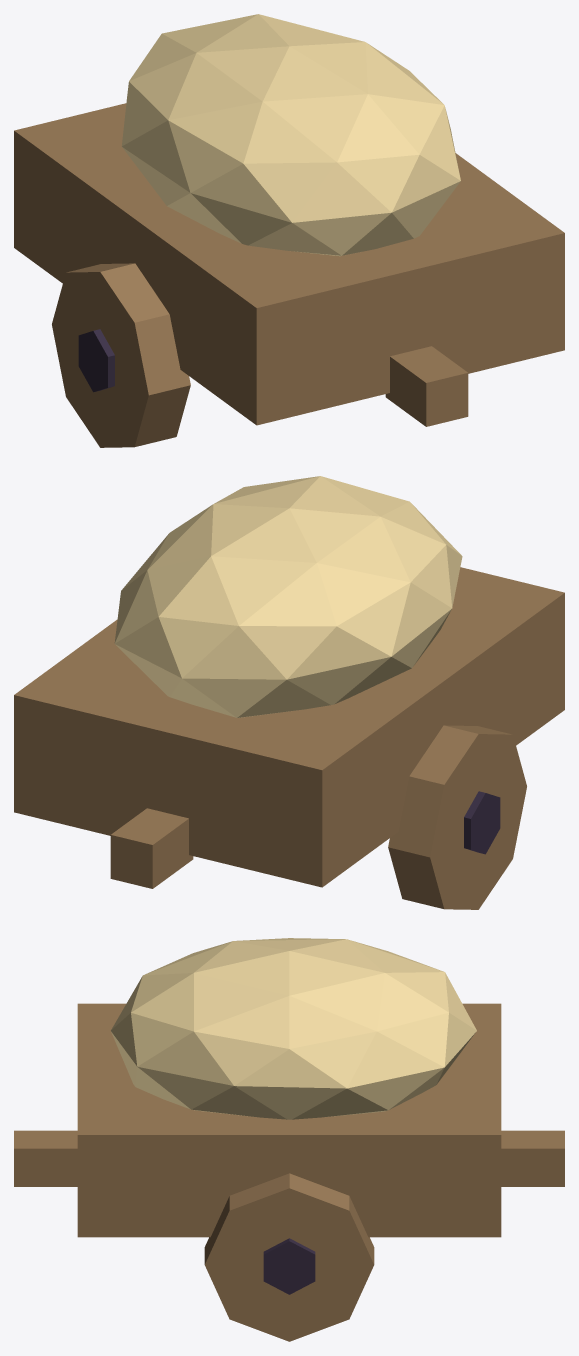
File: hay-cart.glb
The picture shows the model from 3 angles, top to bottom: view 1: azimuth 30°, elevation 25°; view 2: azimuth 150°, elevation 25°; view 3: azimuth 270°, elevation 25°; orthographic projection. The views are drawn at different scales.
Visible parts, largest first — view 1: medieval-hay-cart; view 2: medieval-hay-cart; view 3: medieval-hay-cart.
Part boxes in pixels (left/top/right/bottom): medieval-hay-cart: left=14, top=14, right=564, bottom=447; medieval-hay-cart: left=14, top=476, right=564, bottom=909; medieval-hay-cart: left=14, top=938, right=564, bottom=1341.
Size of the model in its own units: 0.56 by 0.4848 by 0.78.
